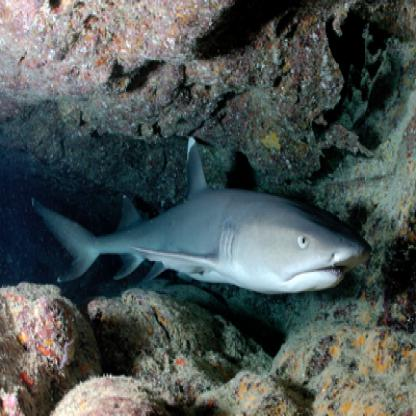shark: (29, 135, 373, 292)
